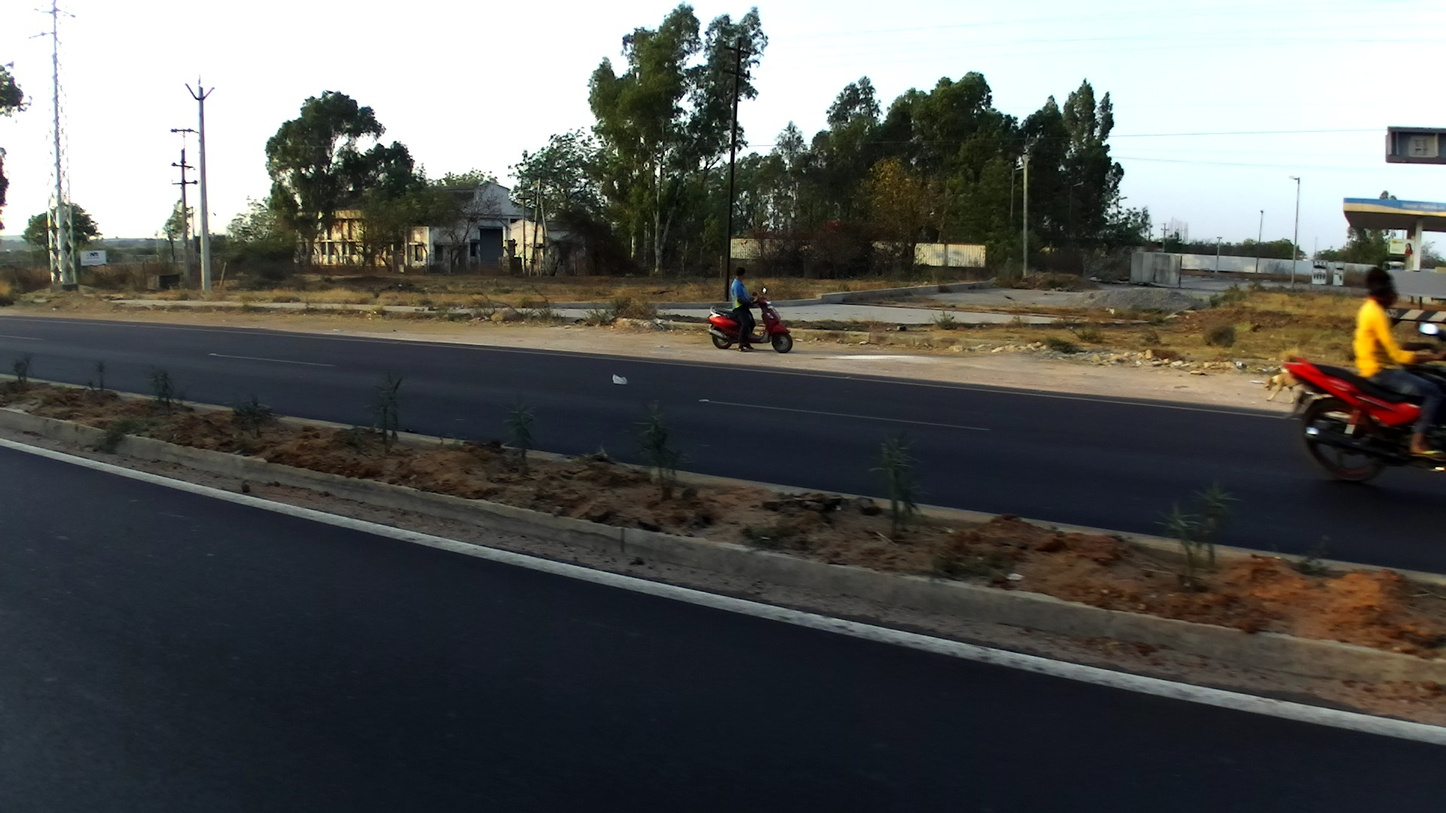animal: (1263, 373, 1305, 404)
motorcycle: (1283, 322, 1446, 494), (708, 288, 793, 352)
rider: (1352, 266, 1444, 460), (725, 265, 761, 351)
